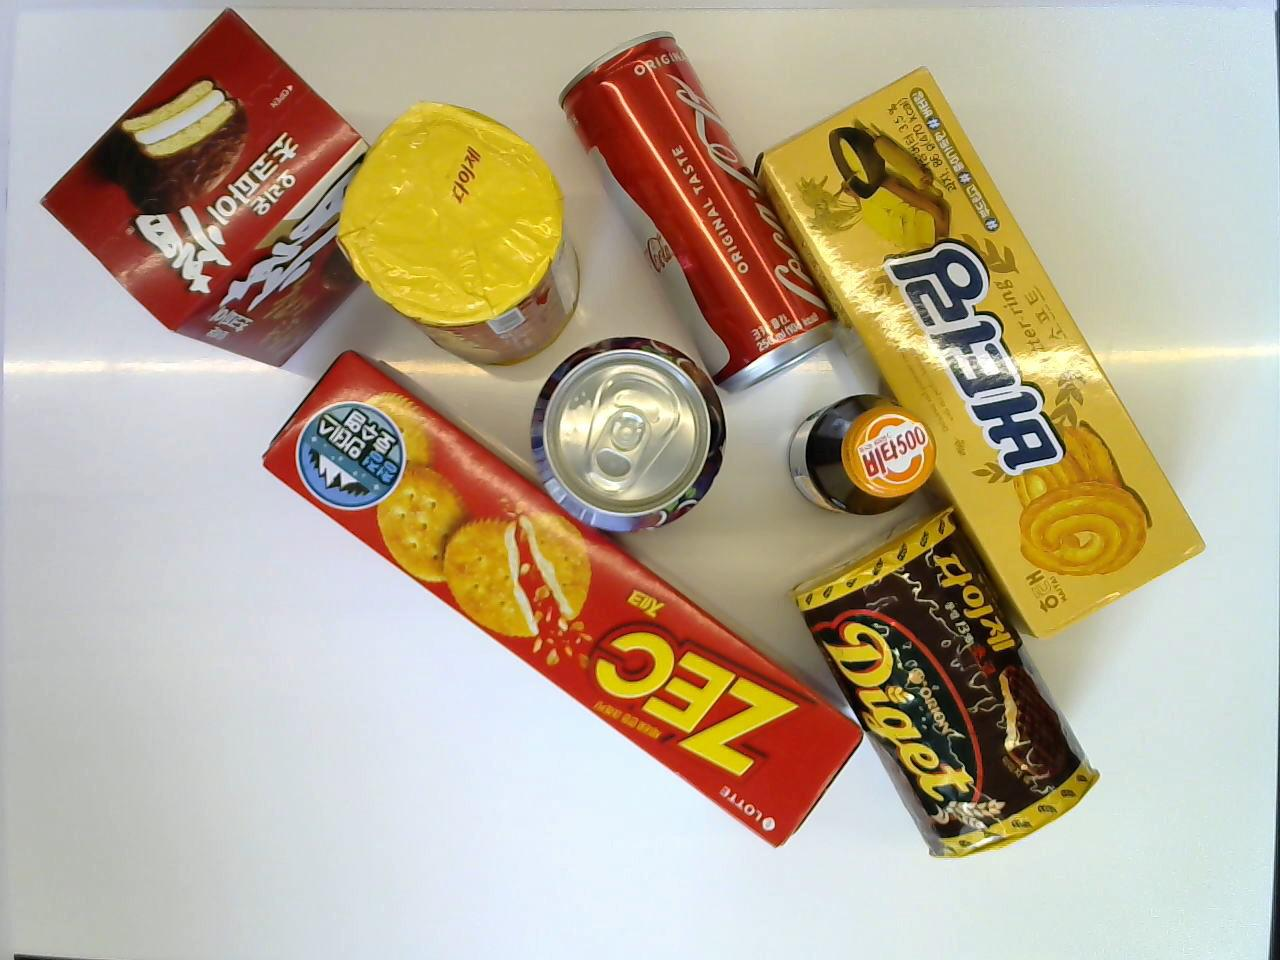buttering: (755, 66, 1207, 637)
chocopie: (33, 3, 398, 370)
coke: (555, 25, 835, 395)
diget_choco: (800, 506, 1100, 863)
diget_ori: (334, 97, 585, 373)
vita500: (787, 390, 937, 513)
welchs: (533, 332, 727, 537)
zec: (258, 352, 862, 849)
